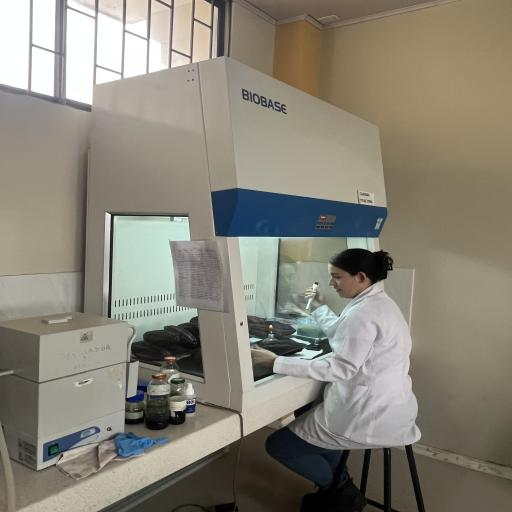Camara_Extractora_Biobase: (77, 62, 411, 424)
